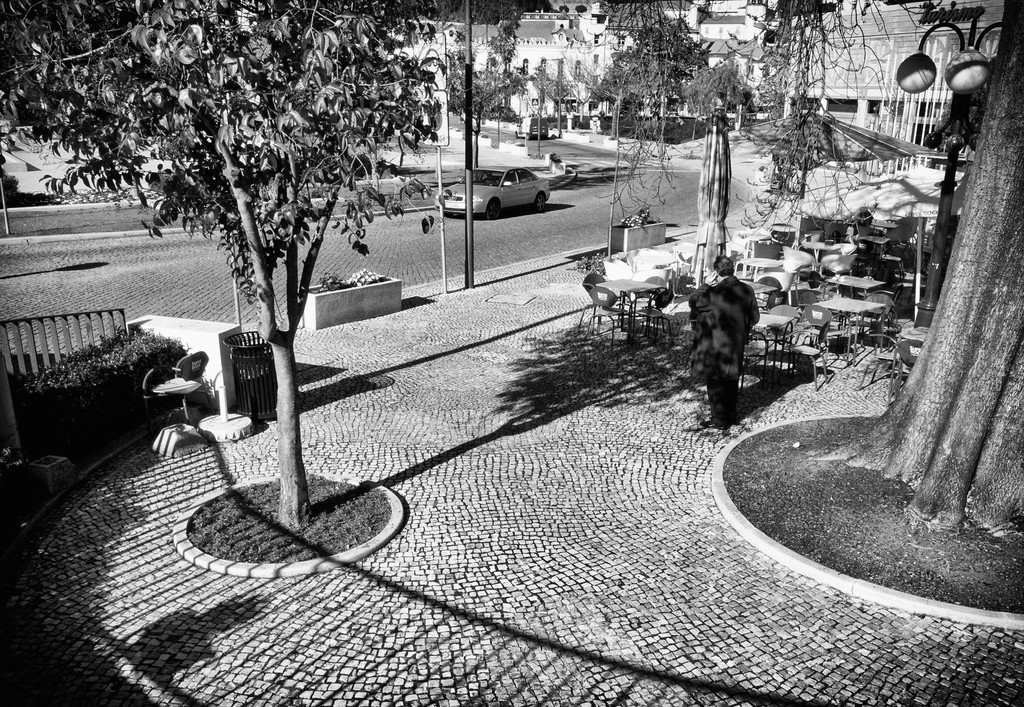Car: (430, 158, 541, 219)
